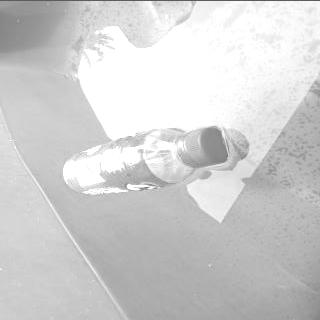bottle: (62, 124, 232, 194)
